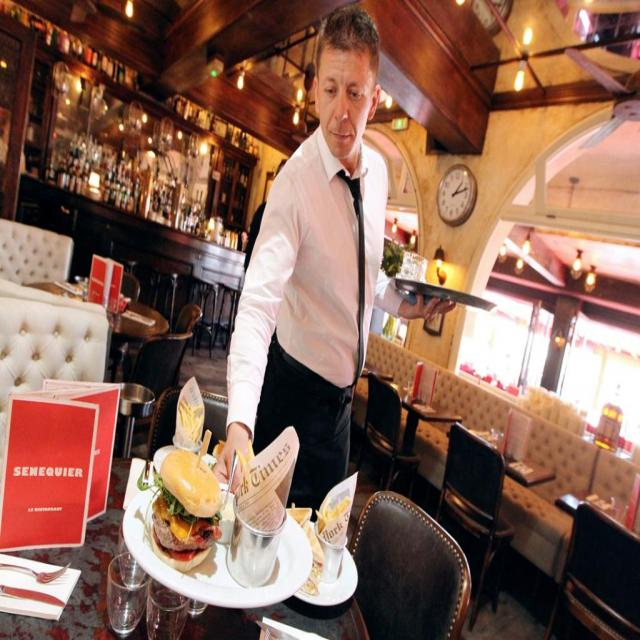nomask: (314, 43, 372, 161)
